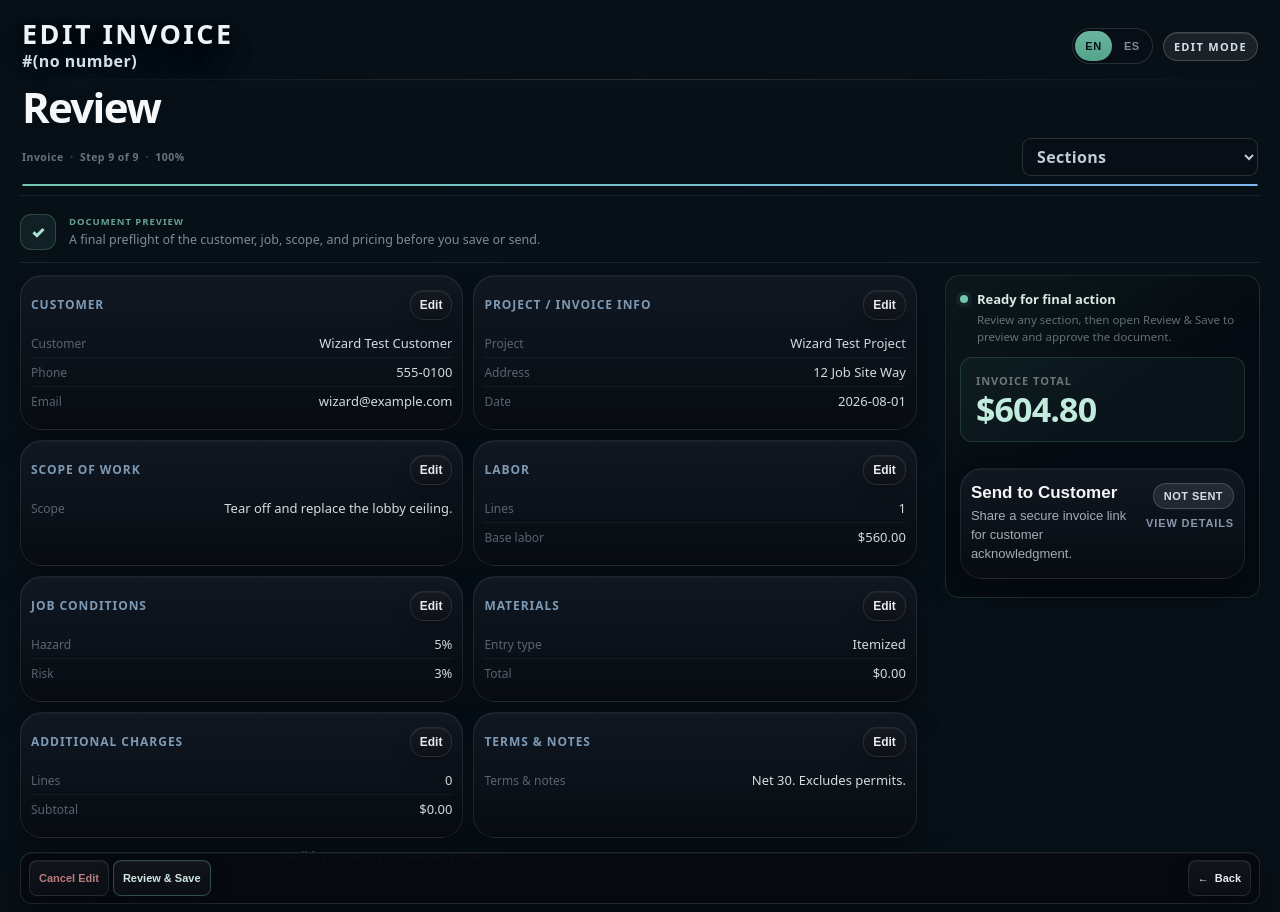
Scenario: builder wizard initial presentation › an existing saved invoice opens at Review
Expected: the heading "Review" is shown, x1=22 y1=78 x2=160 y2=135
Step 1. Click the button with aria-label "Edit — Materials" → (885, 606), box x1=863 y1=591 x2=906 y2=621
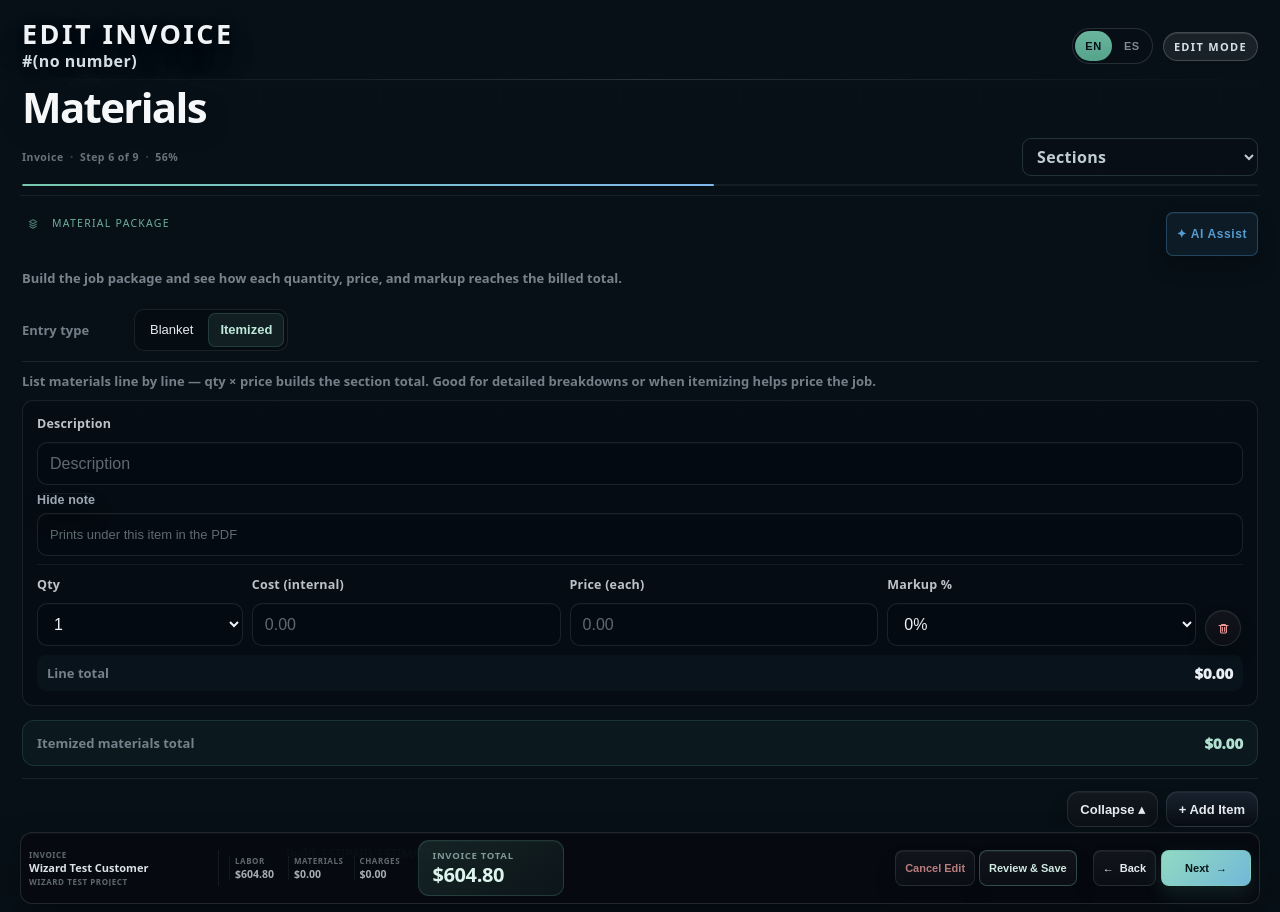
Expected: the heading "Materials" is shown, x1=22 y1=78 x2=206 y2=135
